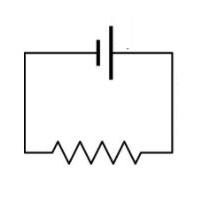resistor: (37, 131, 149, 172)
